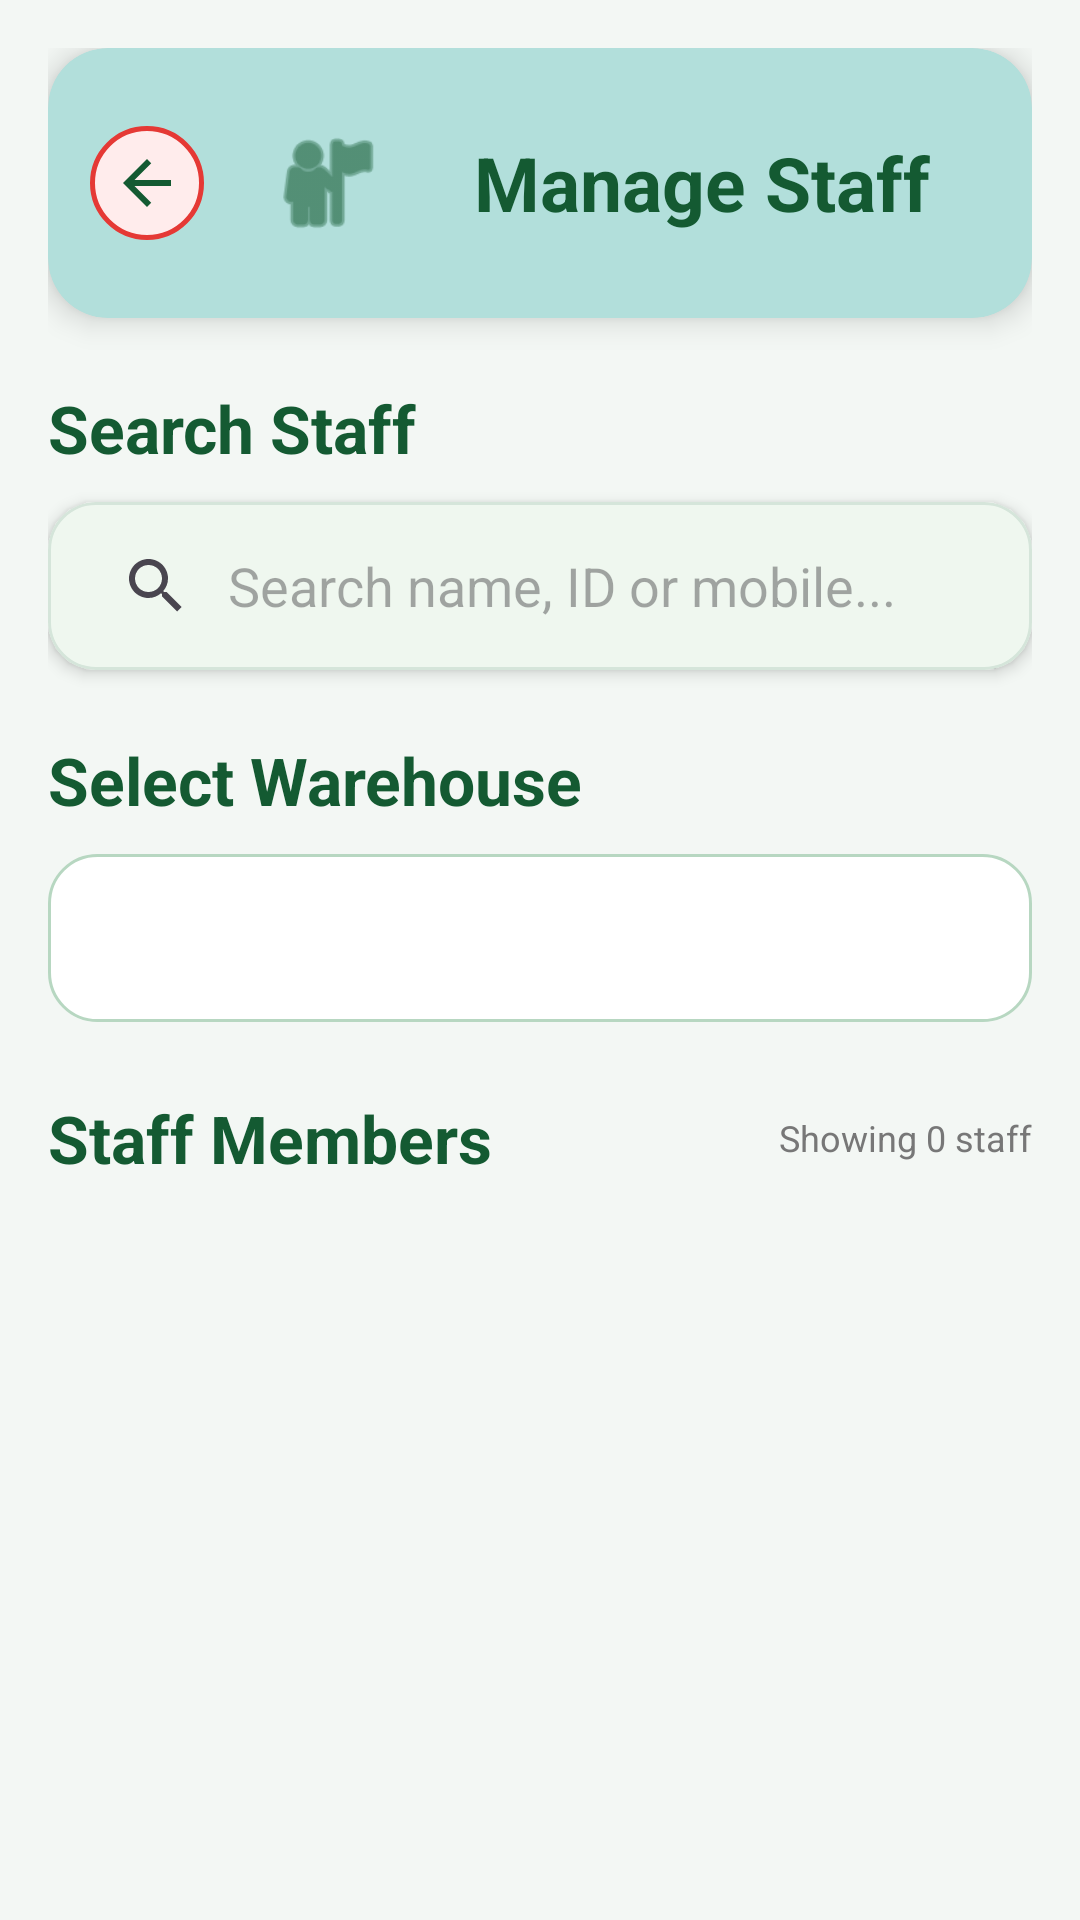

Screen size 1080*1920. Icon name, then its box in pixels as BBox(x1, y1, x2, y2):
Back: BBox(90, 126, 204, 240)
